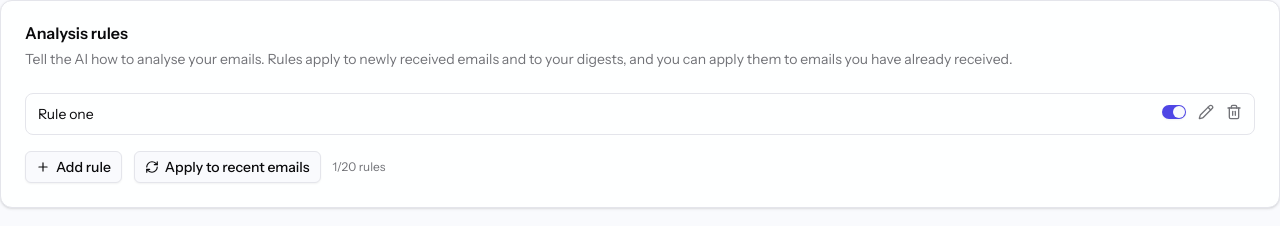
AnalysisRulesSettings › toggles a rule off
The width and height of the screenshot is (1280, 226).
Click the switch named "Disable rule".
click(1174, 112)  # box [1162,105,1186,119]
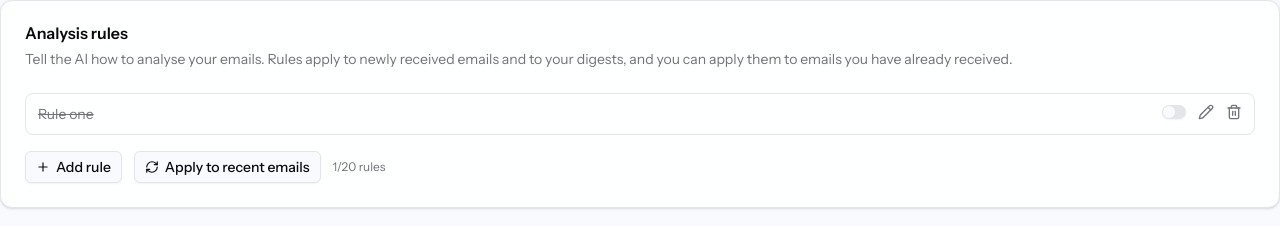
Check: the switch named "Enable rule" is shown, box [1162,105,1186,119]
